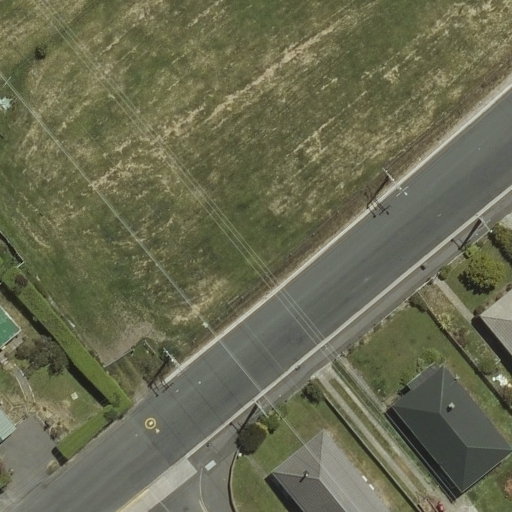DT: (374, 160, 411, 201), (155, 342, 185, 377), (245, 389, 274, 424), (472, 208, 498, 238)
